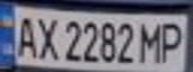2: (60, 16, 84, 63), (115, 19, 139, 65), (78, 17, 100, 64)
8: (100, 18, 121, 64)
A: (9, 12, 39, 60)
M: (136, 18, 166, 64)
P: (157, 18, 190, 64)
X: (33, 12, 60, 61)
